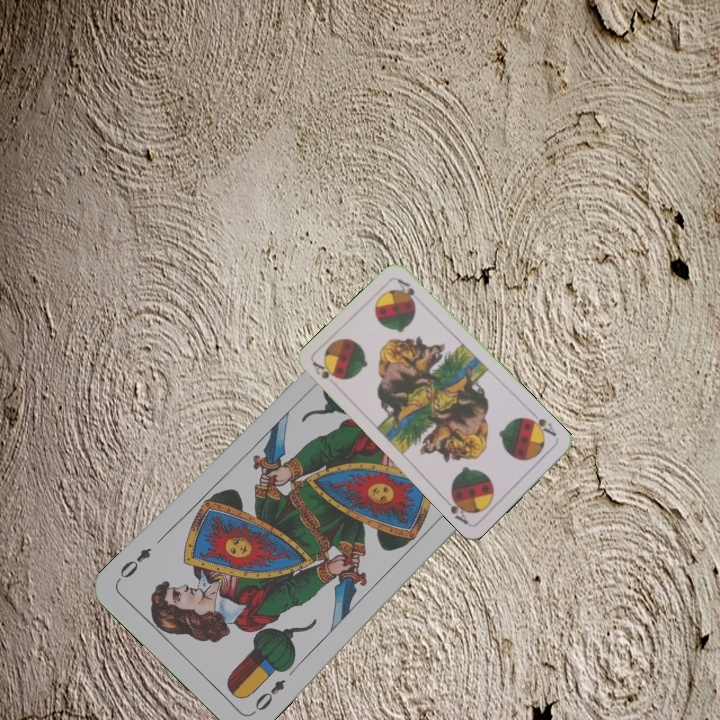EO: (248, 675, 288, 717)
SA: (523, 408, 559, 439), (309, 358, 342, 382)
